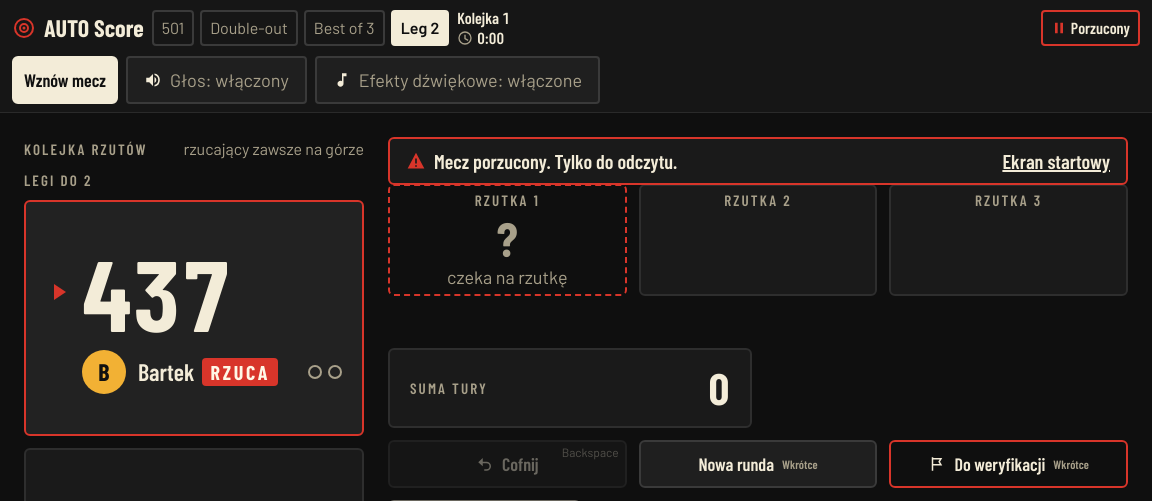
Test case: abandon and resume › shows a failed resume
Click the button "Wznów mecz" at (65, 80), box [12,56,118,104]
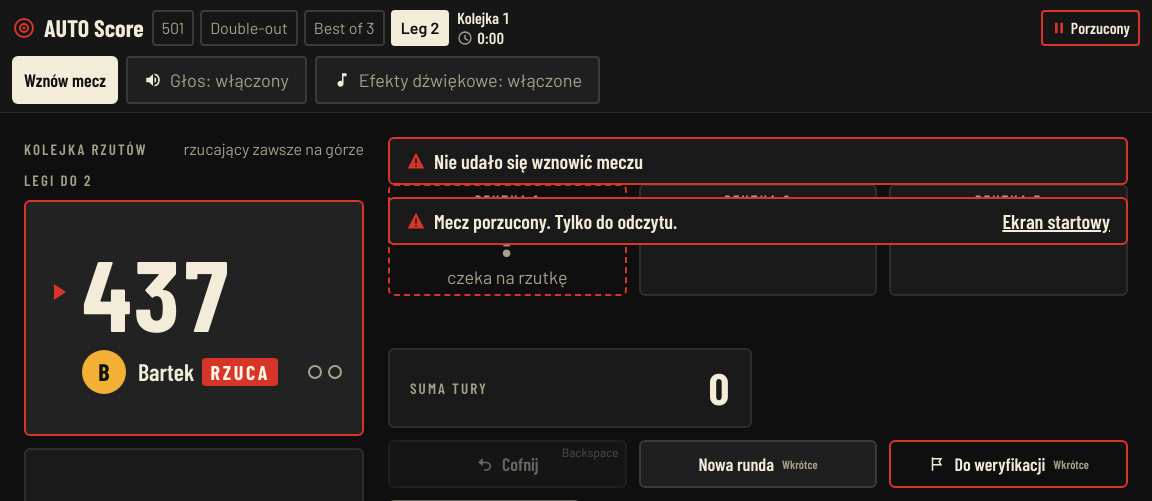
Expected: the text "Nie udało się wznowić meczu" is shown, [388,137,1128,185]
